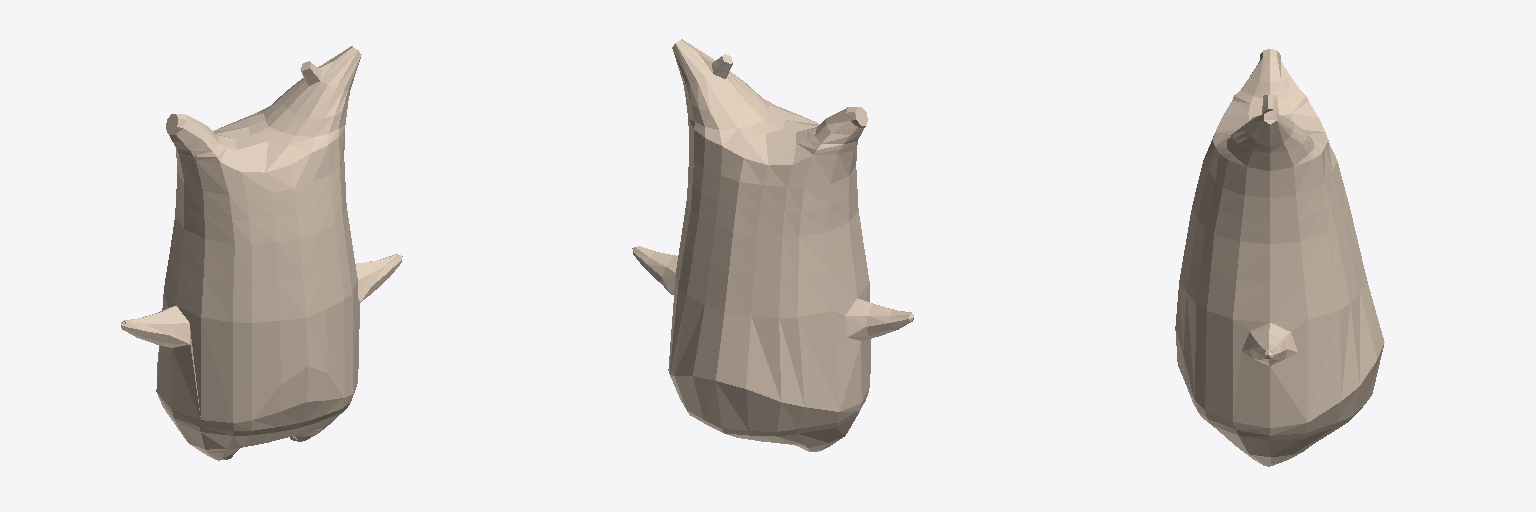
The model's file is frame_0041.obj.
3 views of the same model, side by side, from view 1: azimuth 30°, elevation 25°; view 2: azimuth 150°, elevation 25°; view 3: azimuth 270°, elevation 25° (orthographic).
Parts seen in each view (by area): view 1: korok; view 2: korok; view 3: korok.
Part boxes in pixels (bbox=[...]): korok: bbox=[121, 46, 402, 460]; korok: bbox=[632, 39, 913, 451]; korok: bbox=[1175, 49, 1384, 466].
Bounding box in the file's own units: 1.66 × 2.14 × 1.07.